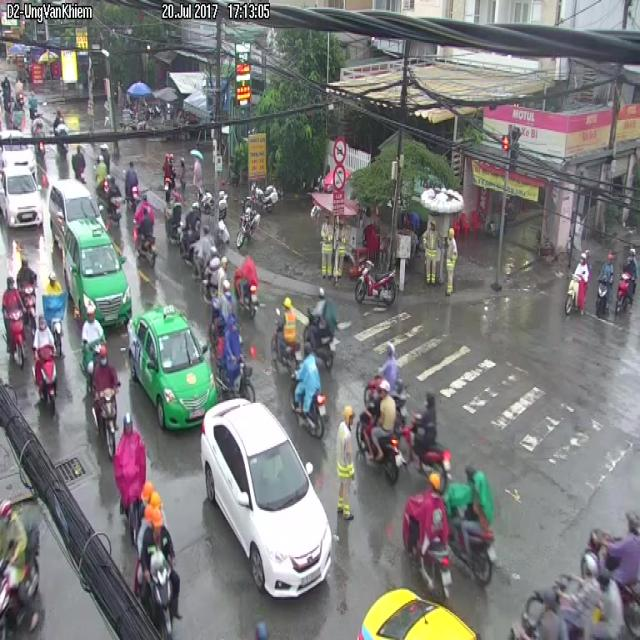car: (135, 481, 179, 639), (402, 471, 451, 603), (446, 467, 496, 584), (356, 381, 405, 483), (113, 415, 146, 517), (90, 348, 120, 458), (354, 259, 397, 307), (35, 319, 57, 407), (303, 393, 328, 439)
traffic-light: (201, 399, 332, 597), (46, 179, 130, 326), (128, 305, 218, 425), (0, 167, 42, 225), (81, 246, 120, 276)
